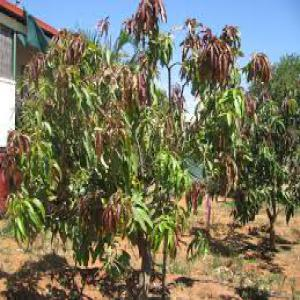Tree: (4, 0, 294, 288)
